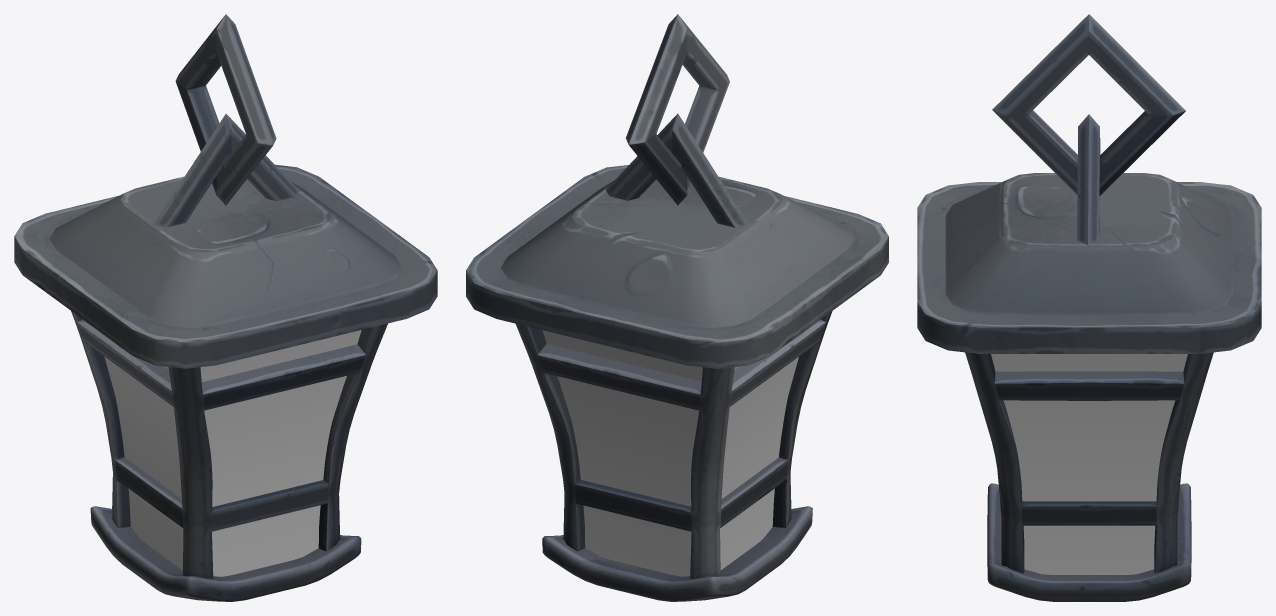
File: SM_Lantern_01.fbx
3 renders of one model, left to right at view 1: azimuth 30°, elevation 25°; view 2: azimuth 150°, elevation 25°; view 3: azimuth 270°, elevation 25°, orthographic.
Parts seen in each view (by area): view 1: SM_Lantern_01_LOD0; view 2: SM_Lantern_01_LOD0; view 3: SM_Lantern_01_LOD0.
Boxes of the visible parts, box(x1,y1,x2,y2) form: SM_Lantern_01_LOD0: box(14, 14, 437, 601); SM_Lantern_01_LOD0: box(466, 14, 888, 601); SM_Lantern_01_LOD0: box(917, 14, 1261, 601).
Size of the model in its own units: 32.98 by 32.98 by 58.46.
3 materials, 1 textured.
